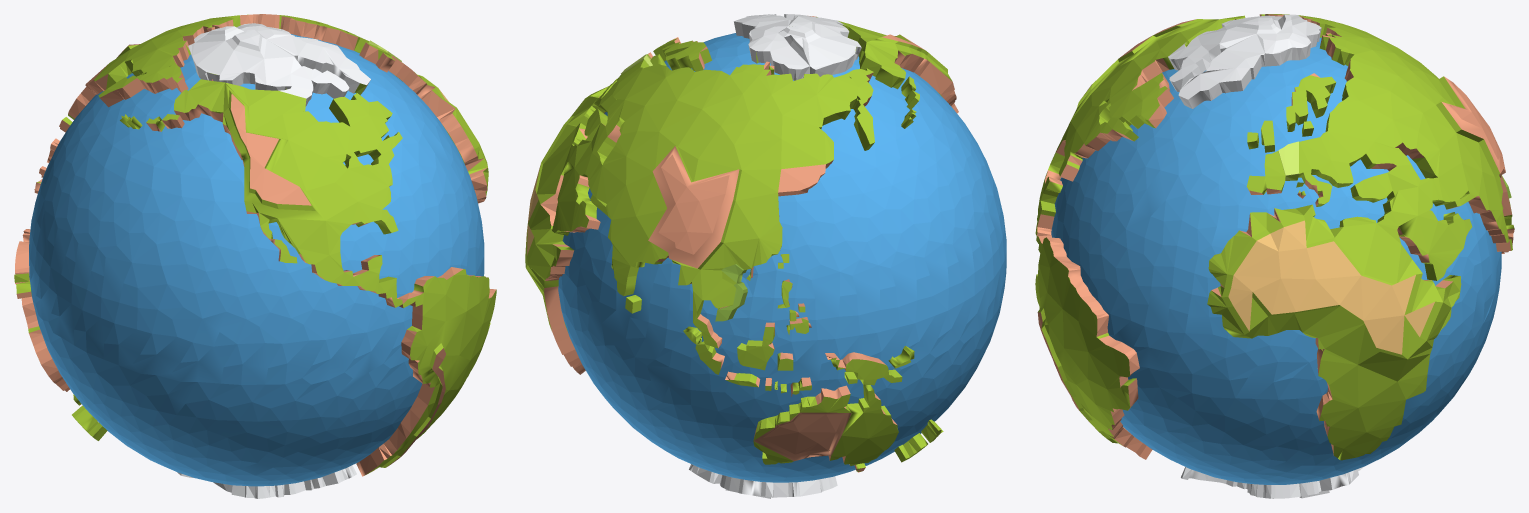
Rendered from earth.glb.
3 views of the same model, side by side, from view 1: azimuth 30°, elevation 25°; view 2: azimuth 150°, elevation 25°; view 3: azimuth 270°, elevation 25° (orthographic).
Visible parts, largest first — view 1: Object_Planet_0; view 2: Object_Planet_0, Vietnam; view 3: Object_Planet_0, Europe.
Part boxes in pixels (x1,y1,x2,y2): Object_Planet_0: (14,14,496,498); Object_Planet_0: (525,14,1006,498); Vietnam: (715,264,747,321); Object_Planet_0: (1035,14,1514,498); Europe: (1278,141,1298,180).
Size of the model in its own units: 2.09 by 2.23 by 2.09.
Materials: 3 (1 with a texture image).
